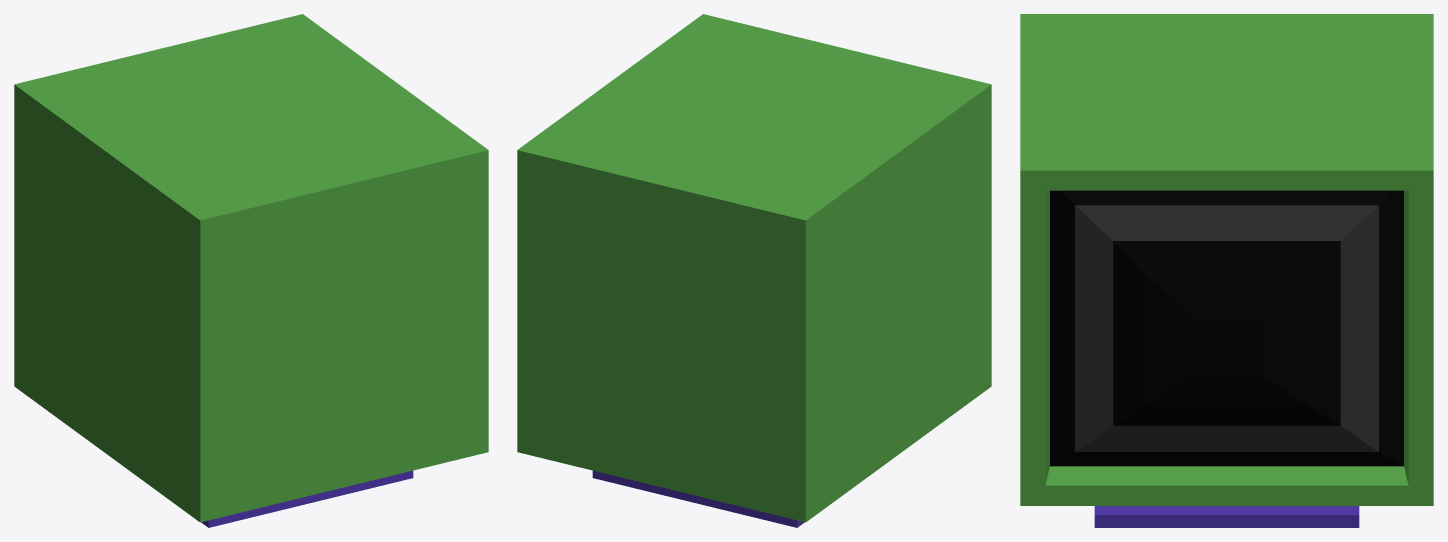
The model's file is pcPantalla2.fbx.
The picture shows the model from 3 angles, left to right: view 1: azimuth 30°, elevation 25°; view 2: azimuth 150°, elevation 25°; view 3: azimuth 270°, elevation 25°; orthographic projection. The views are drawn at different scales.
Visible parts, largest first — view 1: Cube, Cube.001; view 2: Cube, Cube.001; view 3: Cube, Cube.001.
Boxes of the visible parts, bbox=[...] form: Cube: bbox=[14, 14, 488, 522]; Cube.001: bbox=[201, 470, 413, 527]; Cube: bbox=[517, 14, 991, 522]; Cube.001: bbox=[592, 470, 804, 527]; Cube: bbox=[1020, 14, 1433, 505]; Cube.001: bbox=[1094, 506, 1359, 527].
Bounding box in the file's own units: 210 × 227 × 223.
